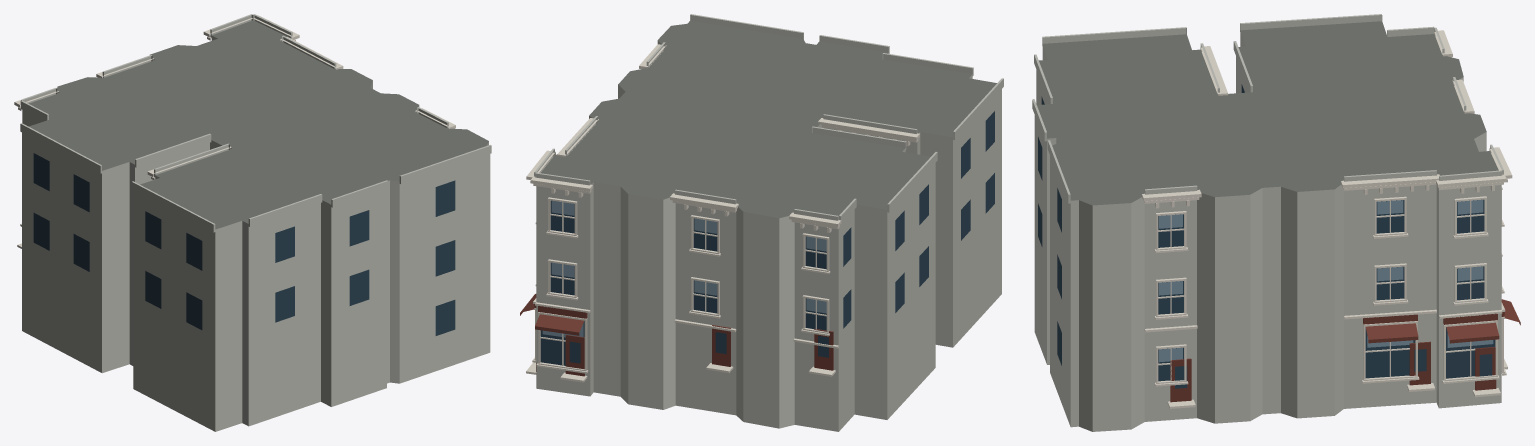
The picture shows the model from 3 angles, left to right: view 1: azimuth 30°, elevation 25°; view 2: azimuth 150°, elevation 25°; view 3: azimuth 270°, elevation 25°; orthographic projection. The views are drawn at different scales.
Parts seen in each view (by area): view 1: Footprint 0 / surface 2, Footprint 0 / surface 1, Inset glazing, Facade bay volumes, Cornices and window frames; view 2: Footprint 0 / surface 2, Footprint 0 / surface 1, Cornices and window frames, Inset glazing, Facade bay volumes, Storefronts and doors, Sky reflection panels; view 3: Footprint 0 / surface 2, Footprint 0 / surface 1, Cornices and window frames, Inset glazing, Facade bay volumes, Storefronts and doors, Sky reflection panels.
Part boxes in pixels (bbox=[...]): Footprint 0 / surface 2: bbox=[22, 36, 490, 431]; Footprint 0 / surface 1: bbox=[29, 20, 488, 229]; Inset glazing: bbox=[33, 153, 455, 335]; Facade bay volumes: bbox=[20, 14, 491, 232]; Cornices and window frames: bbox=[14, 15, 455, 248]; Footprint 0 / surface 2: bbox=[536, 40, 1001, 431]; Footprint 0 / surface 1: bbox=[540, 20, 996, 218]; Cornices and window frames: bbox=[526, 44, 919, 382]; Inset glazing: bbox=[540, 111, 994, 365]; Facade bay volumes: bbox=[534, 14, 1003, 223]; Storefronts and doors: bbox=[520, 294, 833, 376]; Sky reflection panels: bbox=[542, 200, 826, 337]; Footprint 0 / surface 2: bbox=[1034, 30, 1501, 431]; Footprint 0 / surface 1: bbox=[1037, 21, 1498, 205]; Cornices and window frames: bbox=[1142, 30, 1512, 408]; Inset glazing: bbox=[1038, 84, 1495, 388]; Facade bay volumes: bbox=[1032, 14, 1503, 203]; Storefronts and doors: bbox=[1170, 299, 1520, 402]; Sky reflection panels: bbox=[1159, 199, 1493, 362].
Bounding box in the file's own units: 22.48 × 13.16 × 25.05.
